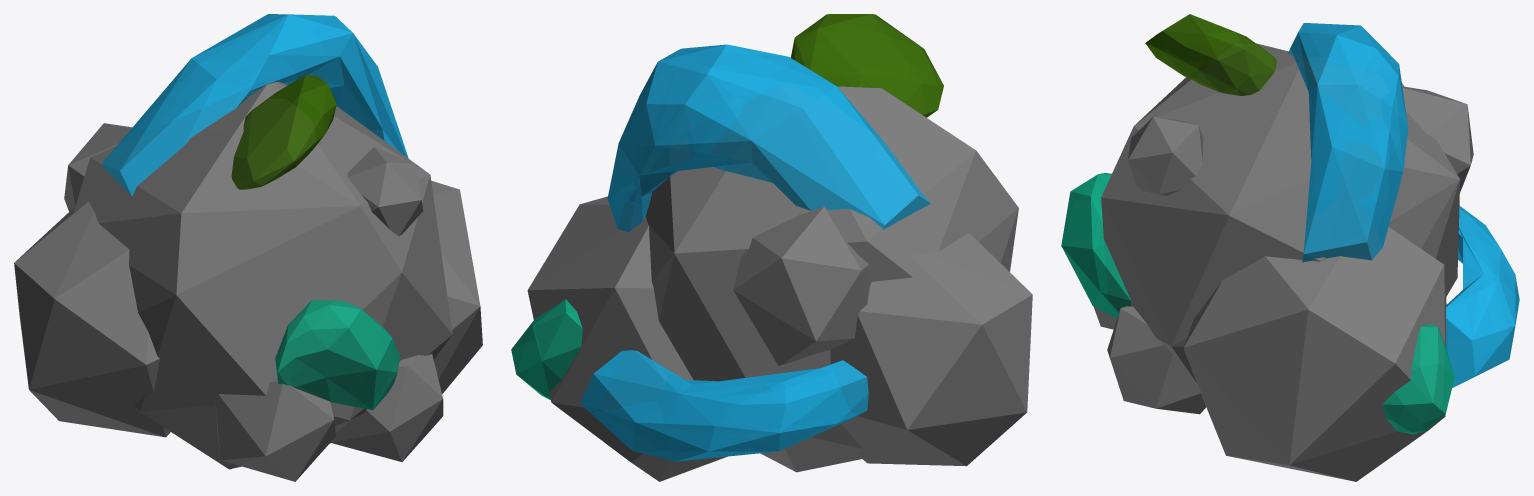
The model's file is WaterstoneOre.fbx.
The picture shows the model from 3 angles, left to right: view 1: azimuth 30°, elevation 25°; view 2: azimuth 150°, elevation 25°; view 3: azimuth 270°, elevation 25°; orthographic projection. The views are drawn at different scales.
Parts seen in each view (by area): view 1: WaterstoneParticle.001; view 2: WaterstoneParticle.001; view 3: WaterstoneParticle.001.
Part boxes in pixels (left/top/right/bottom): WaterstoneParticle.001: left=14, top=14, right=482, bottom=481; WaterstoneParticle.001: left=511, top=14, right=1032, bottom=481; WaterstoneParticle.001: left=1061, top=14, right=1519, bottom=481.
Size of the model in its own units: 2.74 by 2.52 by 2.49.
